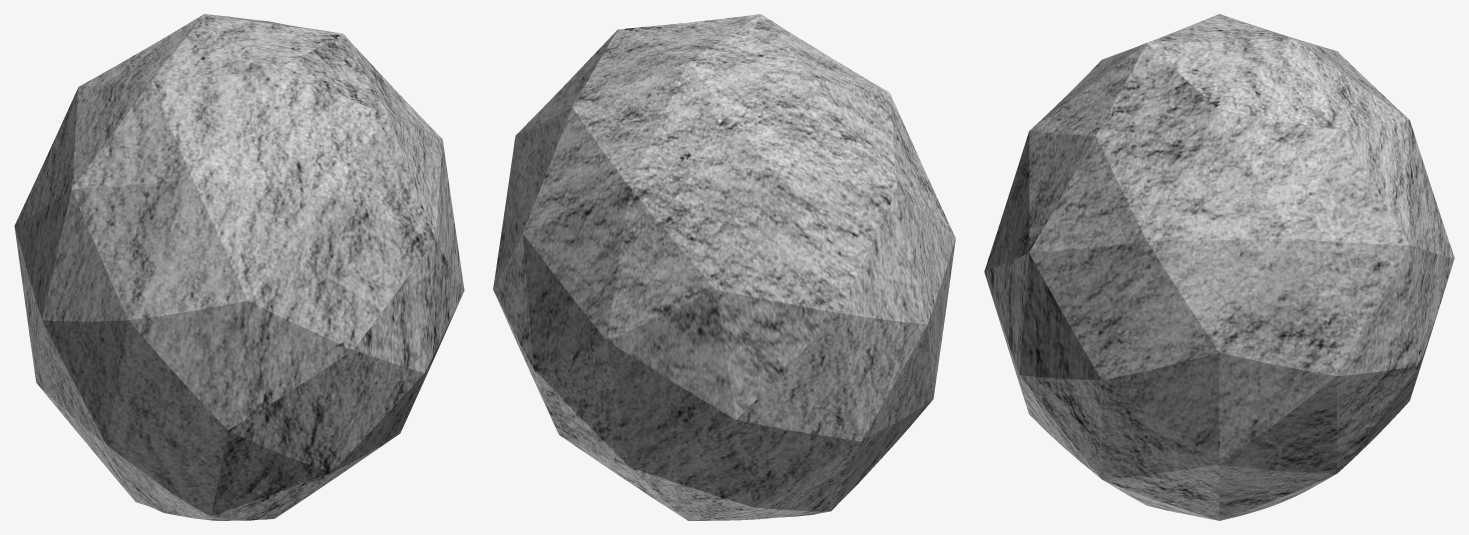
The model's file is debris-rock-web.gltf.
3 views of the same model, side by side, from view 1: azimuth 30°, elevation 25°; view 2: azimuth 150°, elevation 25°; view 3: azimuth 270°, elevation 25° (orthographic). The views are drawn at different scales.
Parts seen in each view (by area): view 1: Debris002; view 2: Debris002; view 3: Debris002.
Part boxes in pixels (x1,y1,x2,y2): Debris002: (14,14,464,520); Debris002: (493,14,955,520); Debris002: (984,14,1454,520).
Bounding box in the file's own units: 0.1129 × 0.1239 × 0.1129.
Materials: 1 (1 with a texture image).
